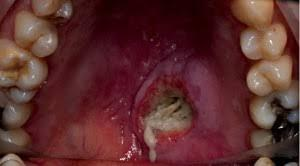Caries: (260, 100, 299, 147), (0, 94, 27, 134), (45, 12, 68, 28)
Discoloration: (3, 37, 45, 82), (247, 6, 281, 40)
Ulcer: (137, 79, 207, 162)
